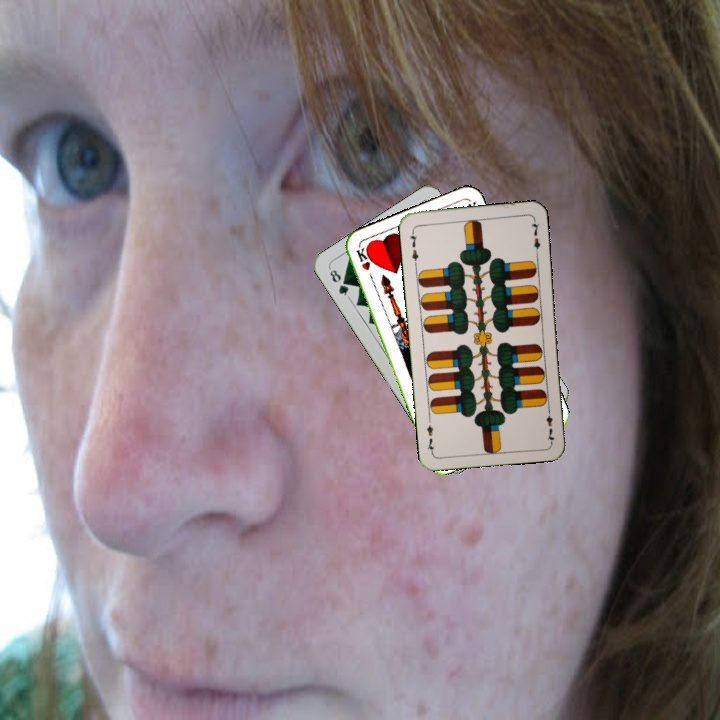E7: (406, 226, 421, 267), (542, 404, 557, 444)
G8: (325, 264, 352, 301)
HK: (352, 243, 376, 283)
